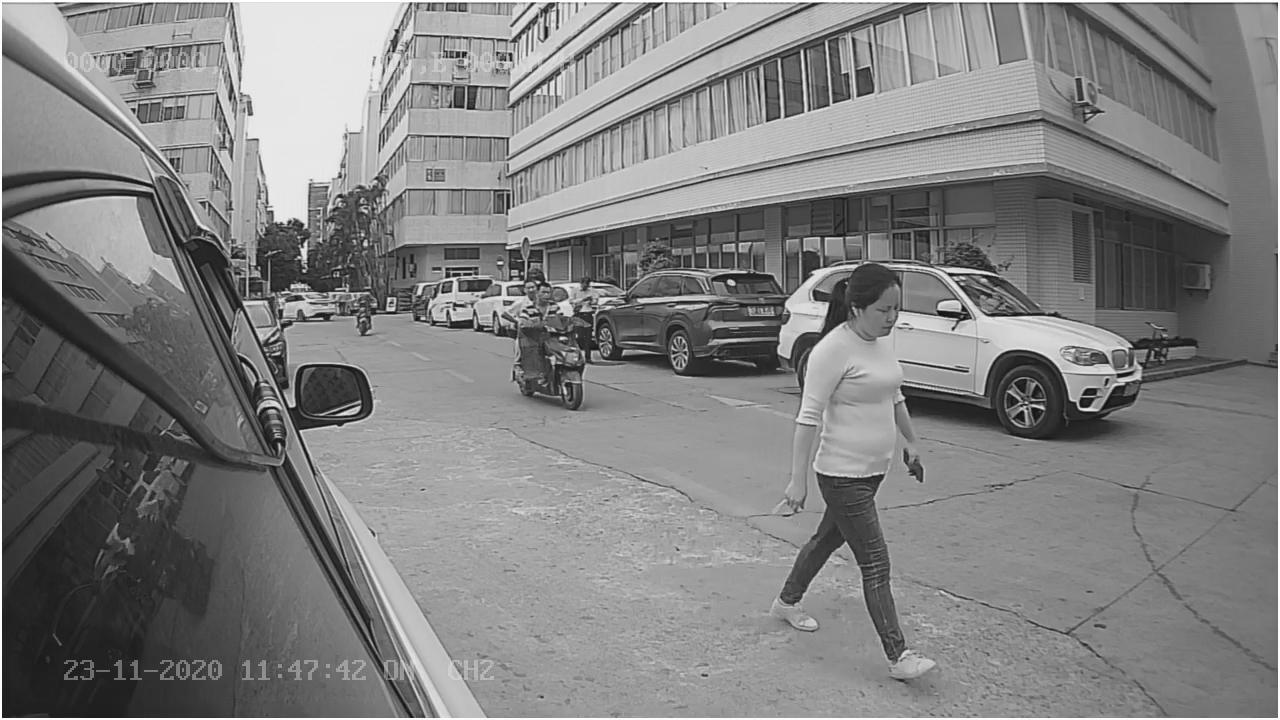person: (772, 260, 941, 677)
